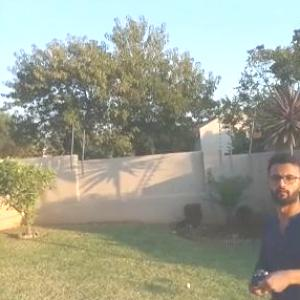follow: (248, 146, 299, 299)
